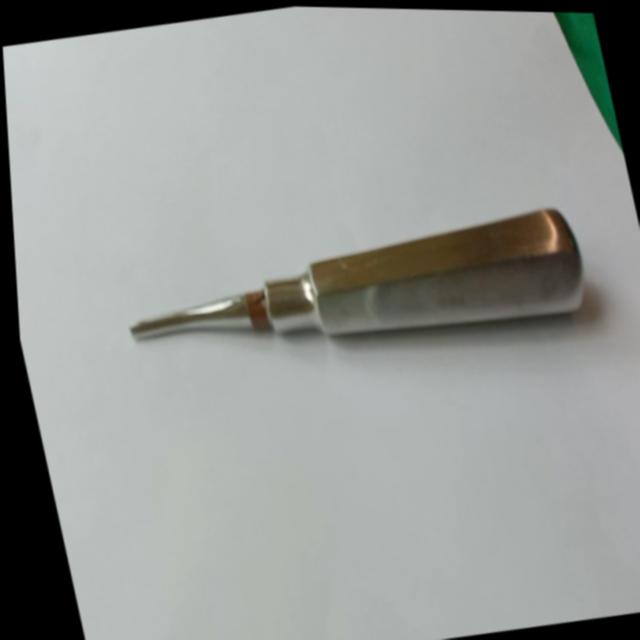Coupland1: (95, 175, 605, 391)
